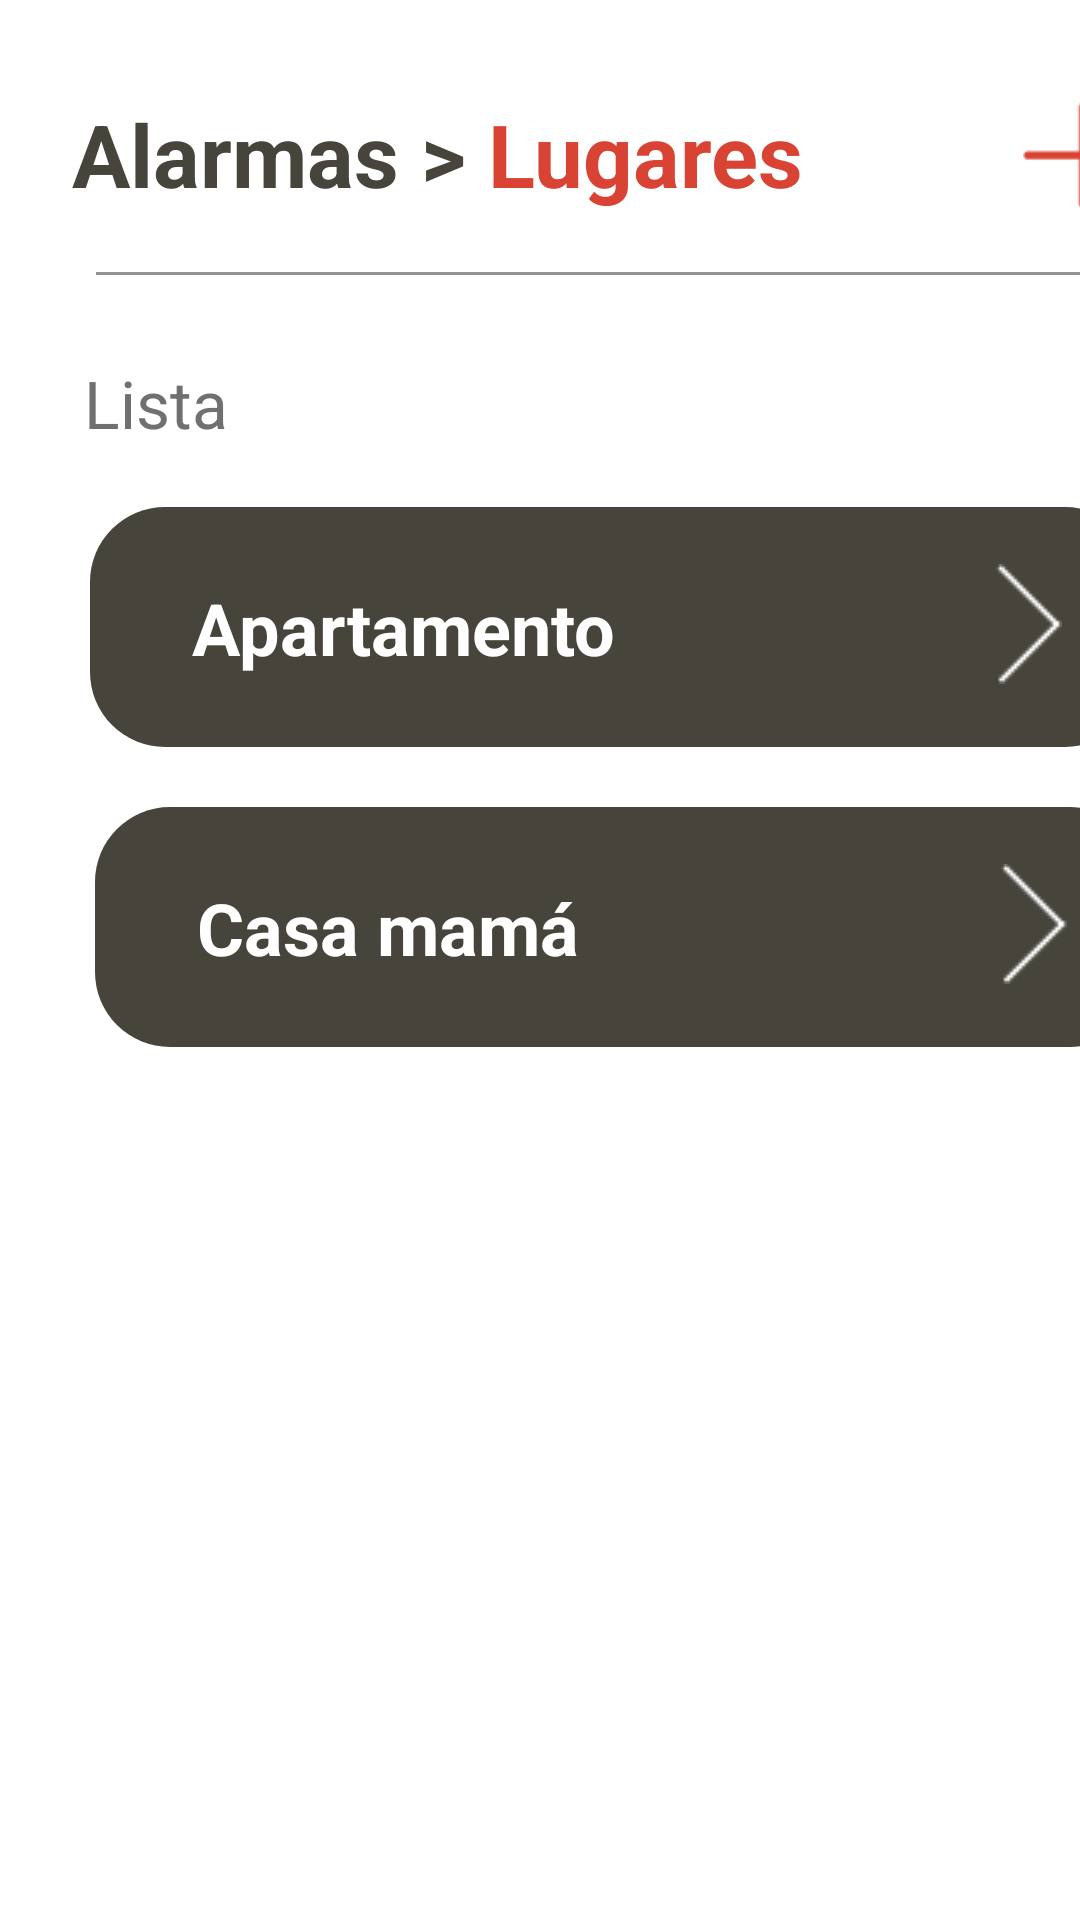

Named icons in this screenshot (1080px x 1920px) and their centers, (x=x, y=y):
adelante: (x=1029, y=624), (x=1034, y=924)
